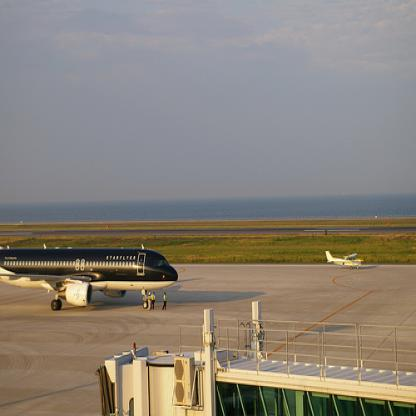aeroplane: (1, 244, 180, 312), (326, 246, 364, 274)
